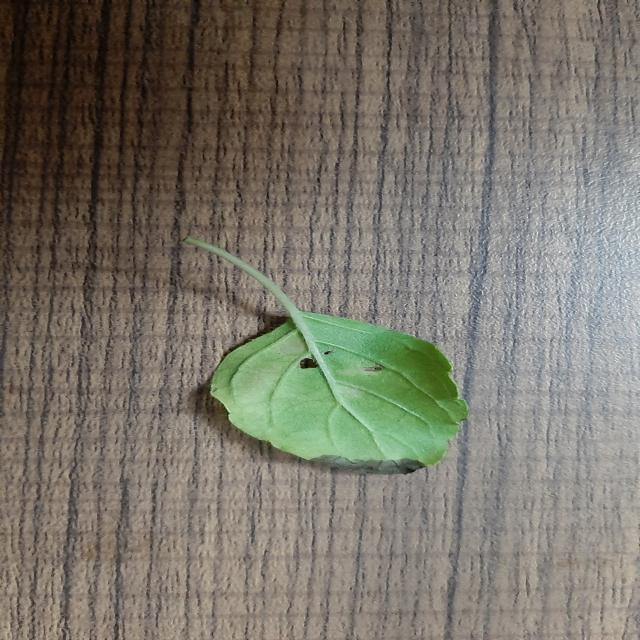defectedtulsi: (230, 330, 325, 401), (325, 349, 390, 395), (312, 455, 425, 475)
tulsi: (184, 238, 466, 474)
